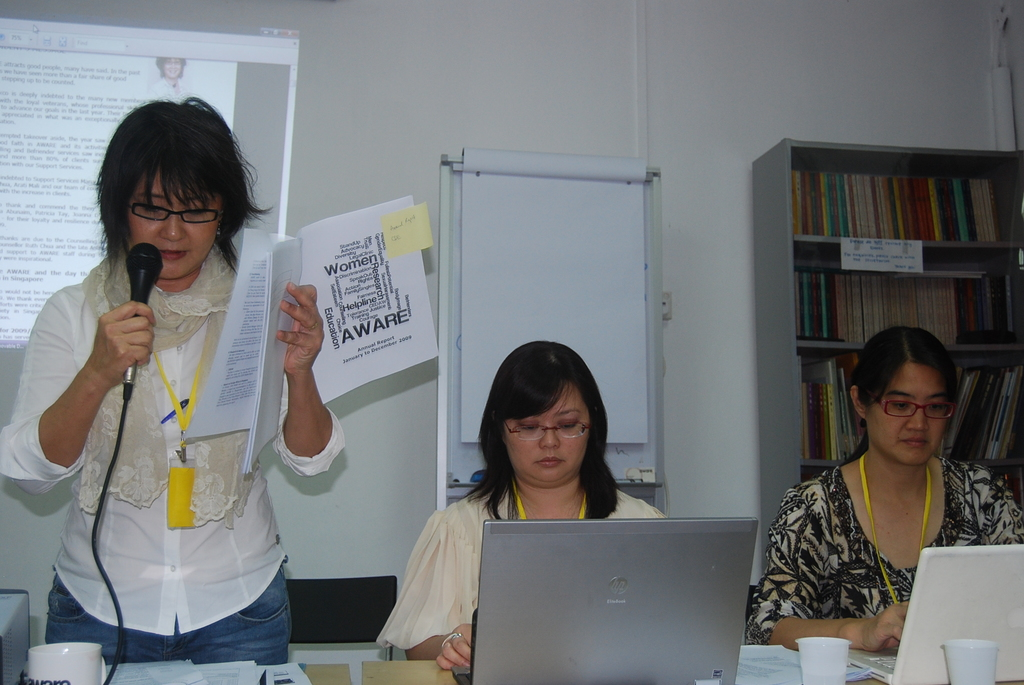Laptop: (469, 520, 769, 675), (891, 546, 1023, 684)
